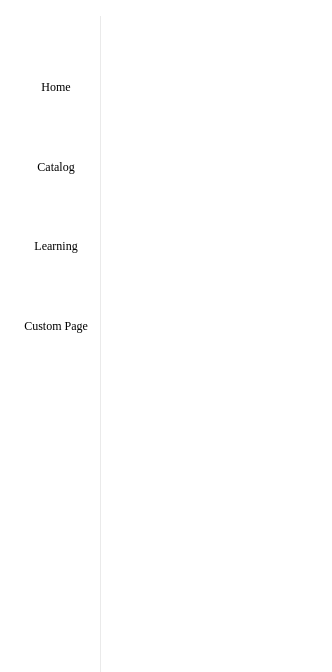
it: ALMSidebar › Submenu State Transitions › should show submenu when hovering over submenu parent item
The width and height of the screenshot is (332, 672).
Step 1. Hover over the list item "Learning" → (56, 231), box [12,191,100,271]
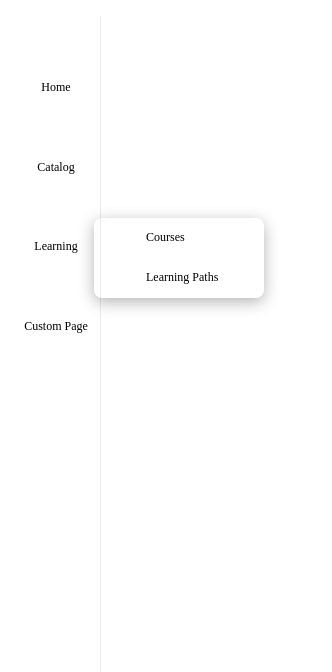
Now the menu item "Courses" is shown, box [94,218,264,258]
Now the menu item "Learning Paths" is shown, box [94,258,264,298]
